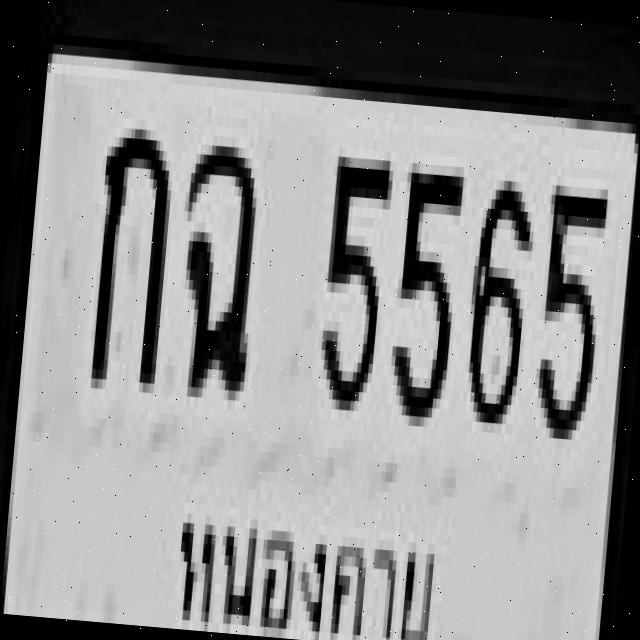10GorGai: (84, 116, 174, 383)
18ChorChing: (168, 134, 260, 390)
5: (382, 152, 462, 418), (313, 146, 391, 402), (527, 174, 605, 430)
6: (456, 168, 530, 424)
NongKhai: (155, 465, 451, 640)
